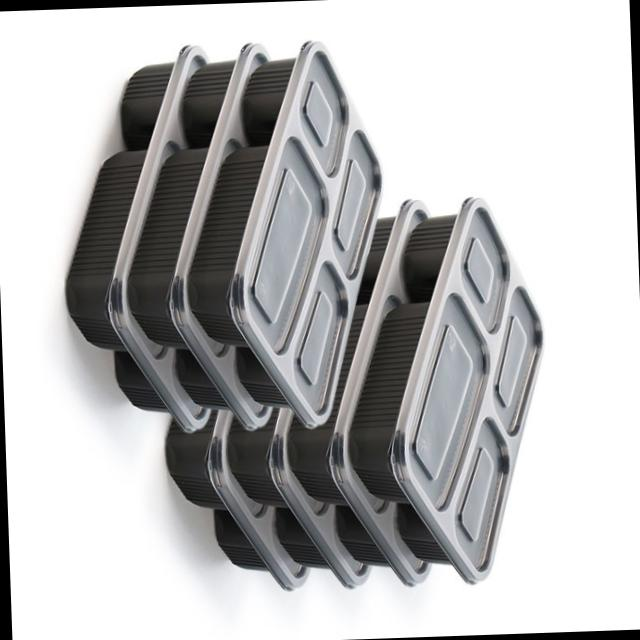plastic_box: (198, 37, 413, 458), (345, 184, 550, 598)
